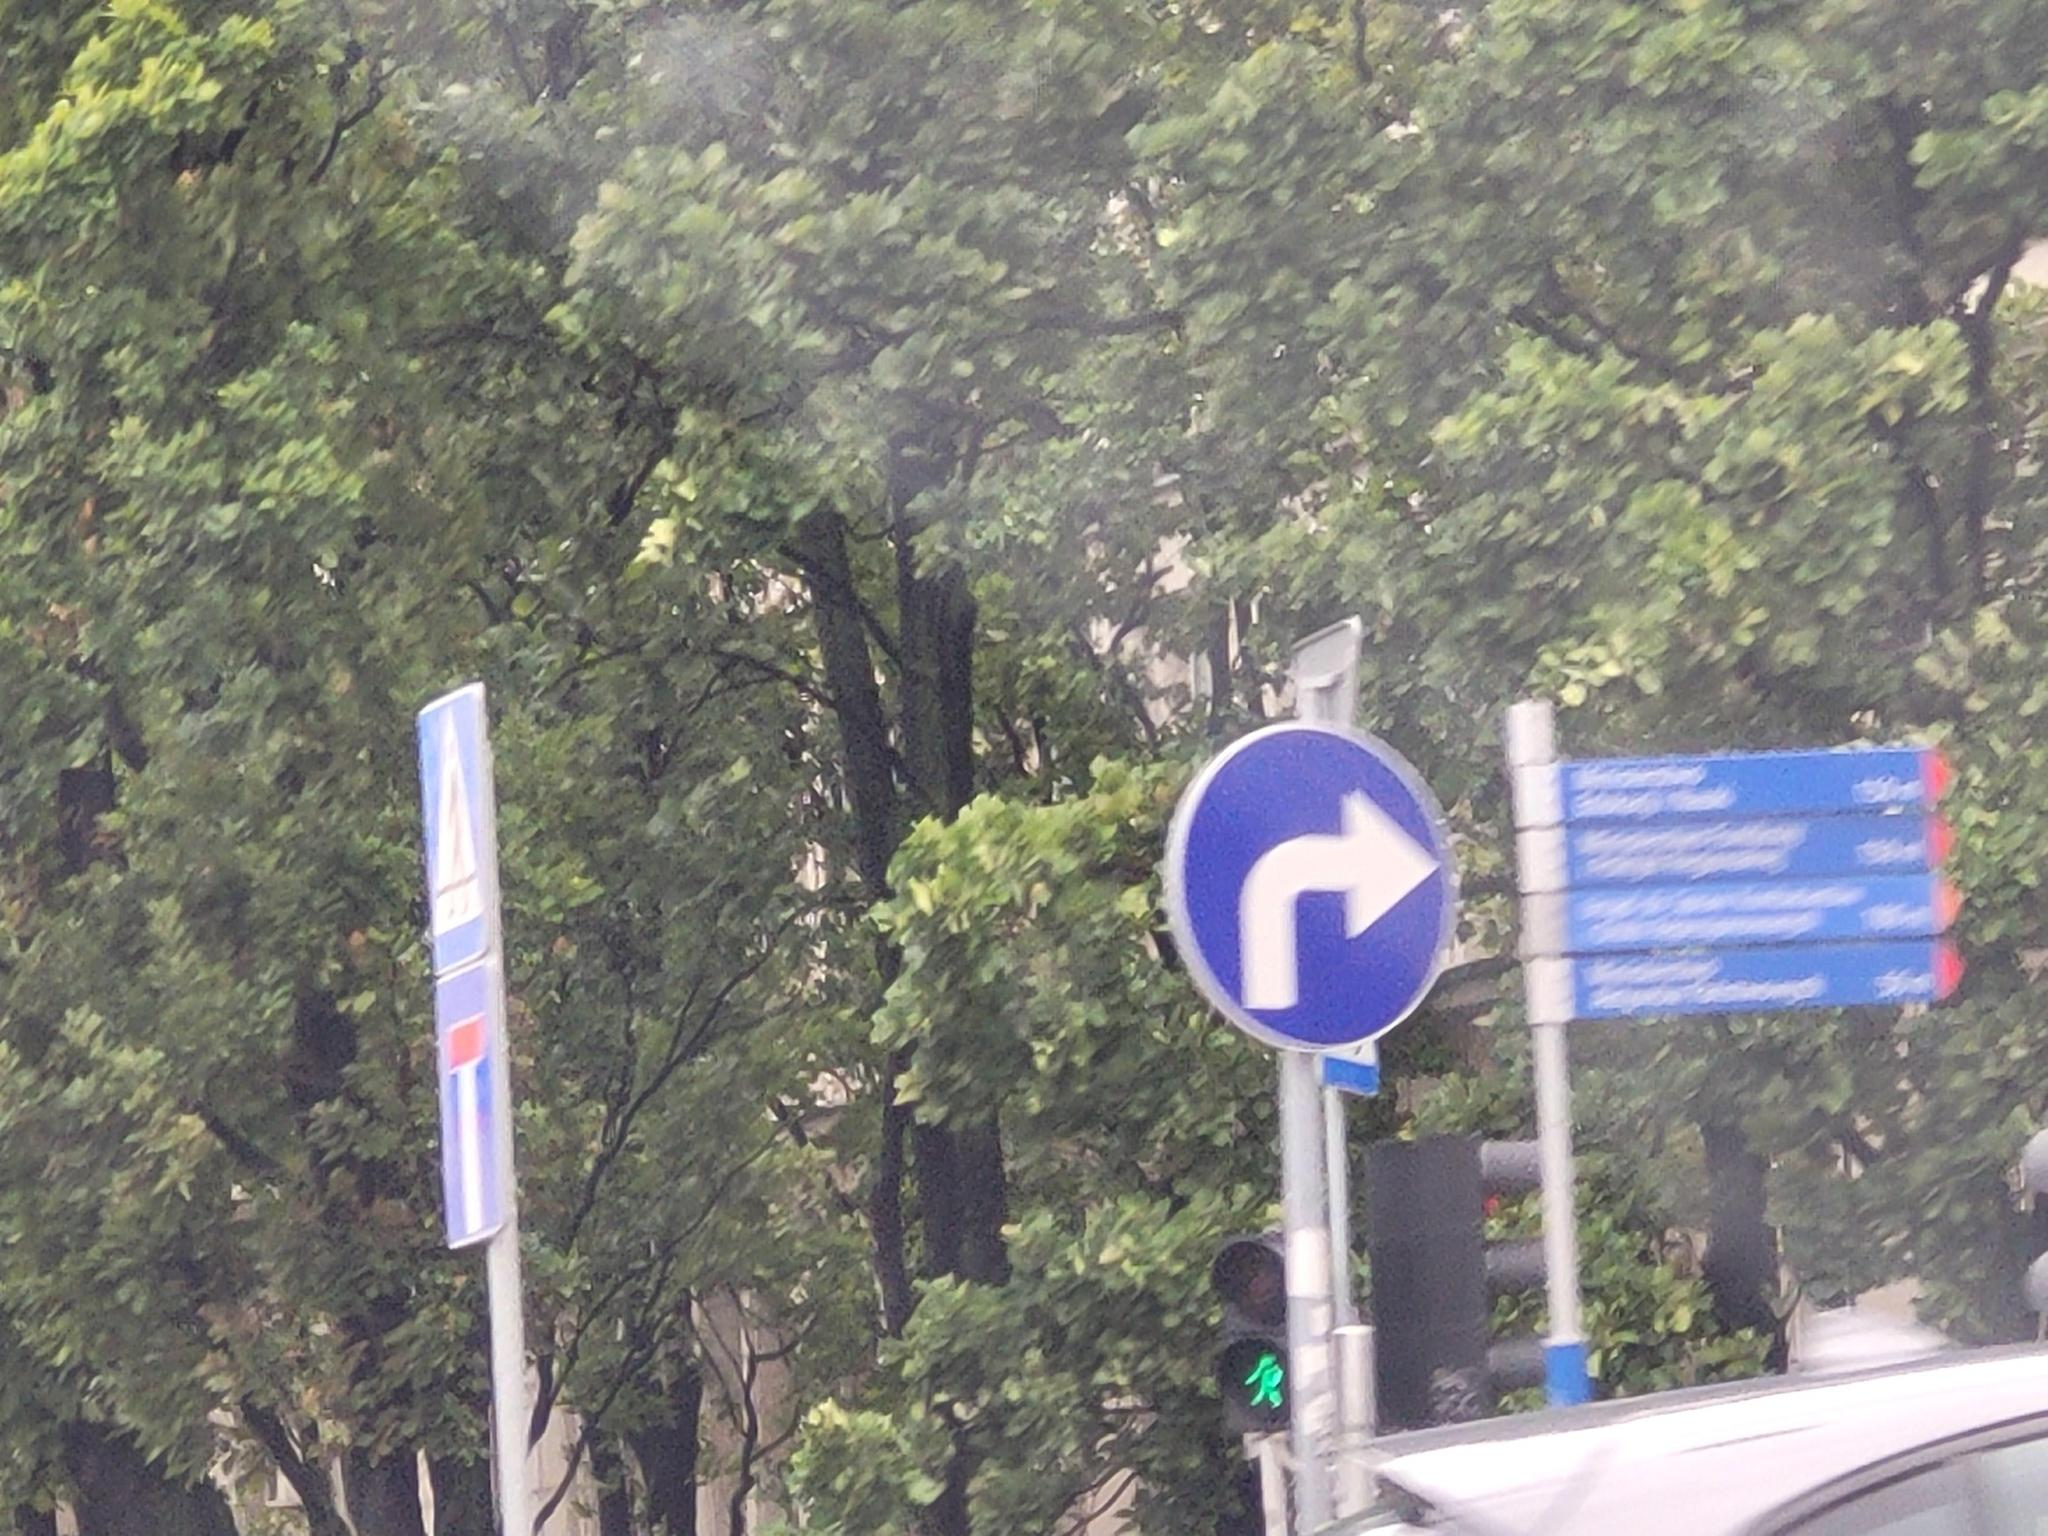information: (421, 687, 492, 970), (435, 976, 500, 1238)
mandatory: (1163, 718, 1456, 1057)
